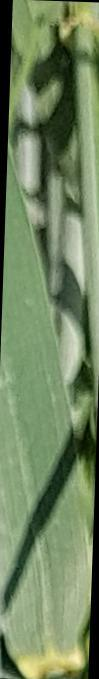Wheat: (4, 163, 85, 664)
